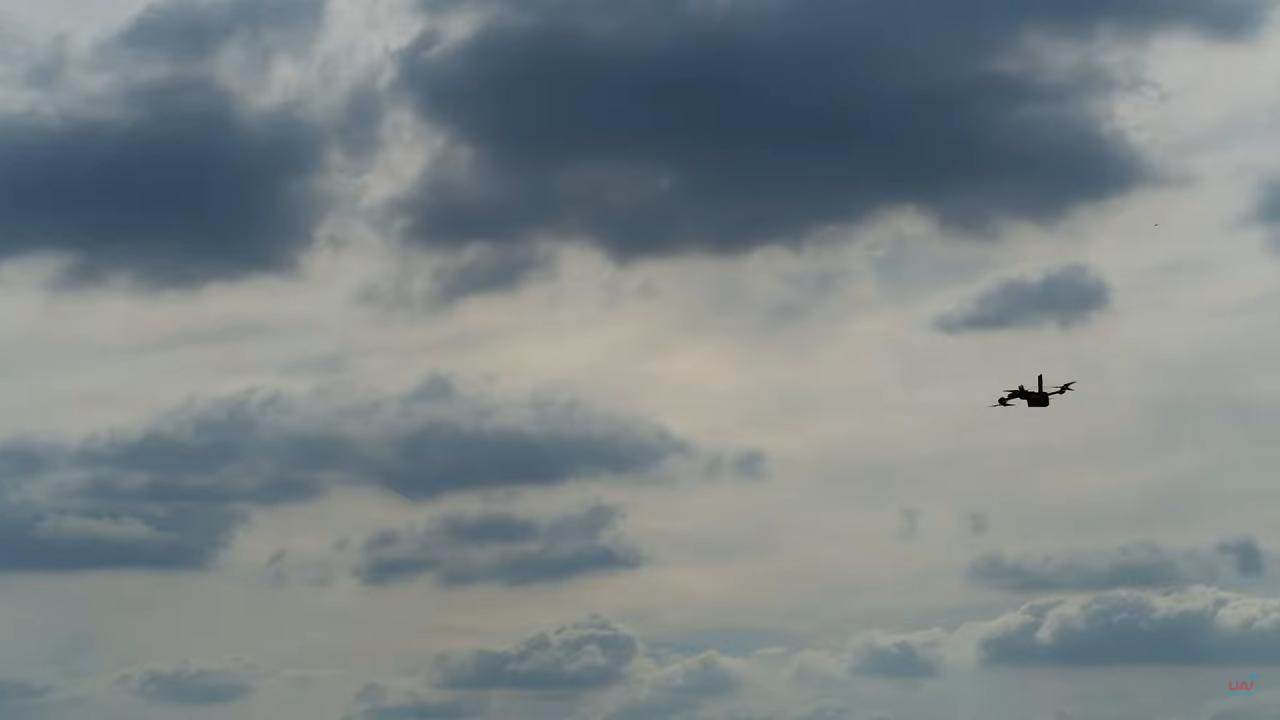Drone: (983, 362, 1085, 426)
